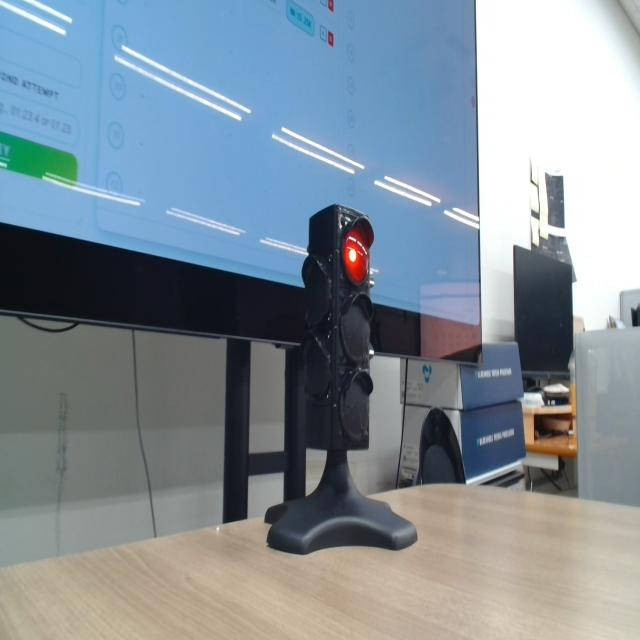red_light: (344, 225, 369, 285)
